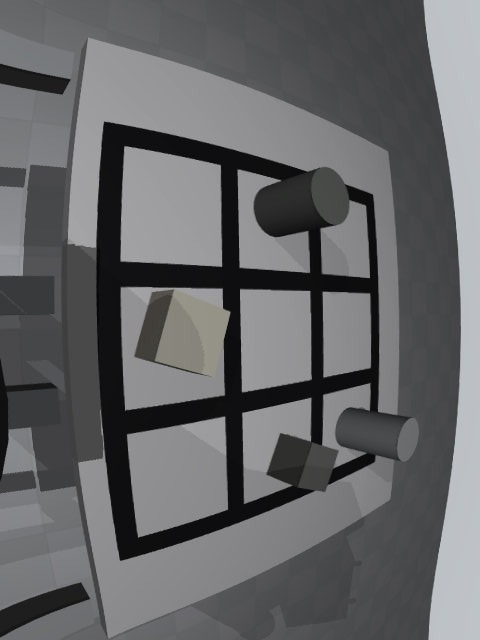can: (335, 407, 419, 462)
cube: (267, 433, 338, 492)
cylinder: (254, 167, 350, 237)
foam: (135, 290, 231, 377)
